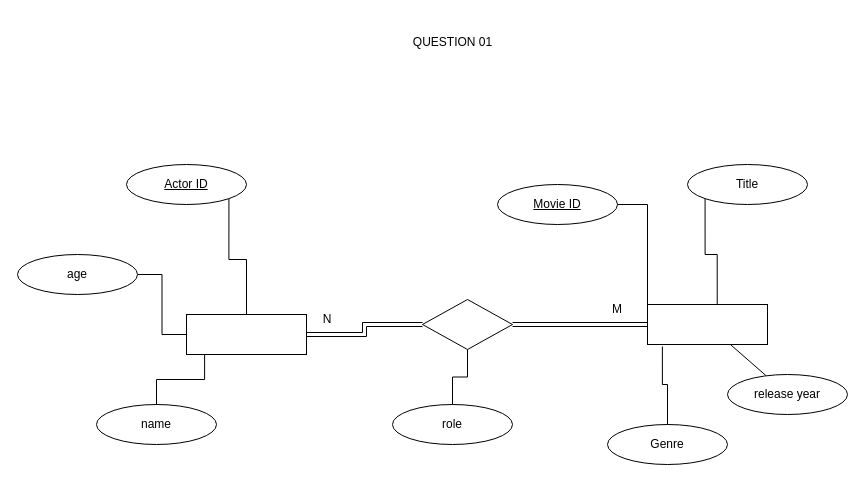
Some shapes in this 865 by 482 pixel diagram are drawn without their labels. The centre of each missing label's shape, as x and y in pixels:
Actor: point 246,334
Acts in: point 467,324
Movie: point 707,324
